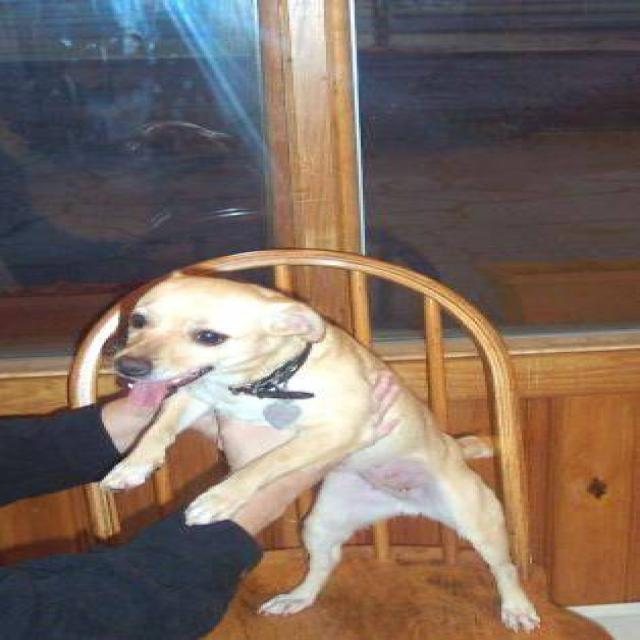dog: (96, 272, 542, 634)
